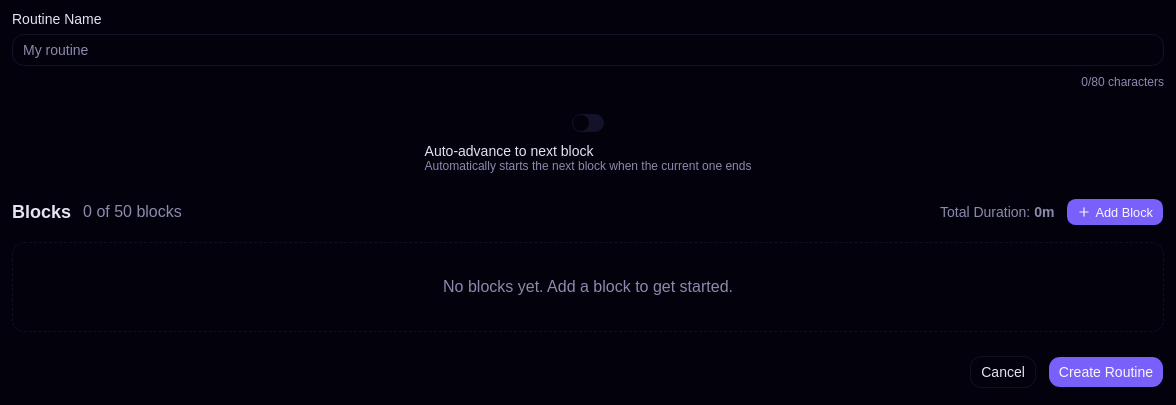
Scenario: RoutineEditor › character counter updates when typing name
Step 1. Type "Morning" into the field with placeholder "My routine" → (588, 50), box left=12, top=34, right=1164, bottom=66
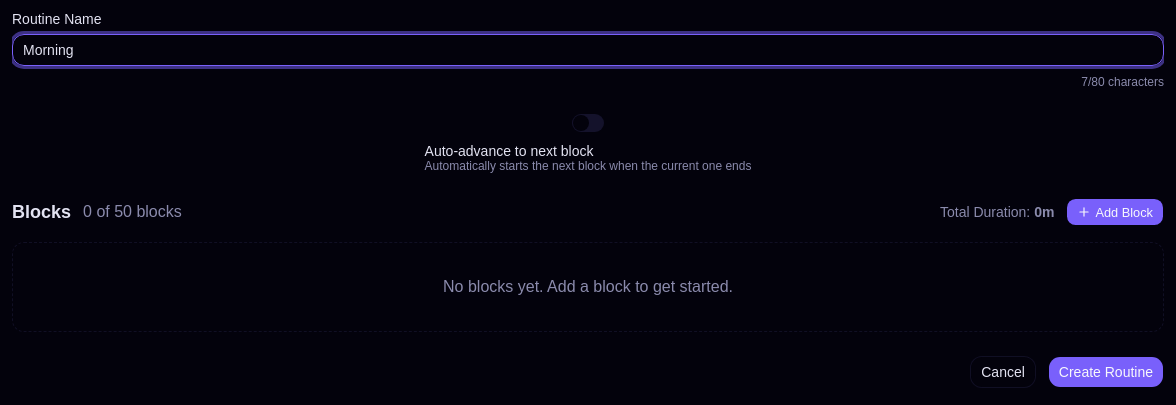
Now the text "7/80 characters" is shown, box left=1081, top=75, right=1164, bottom=89
